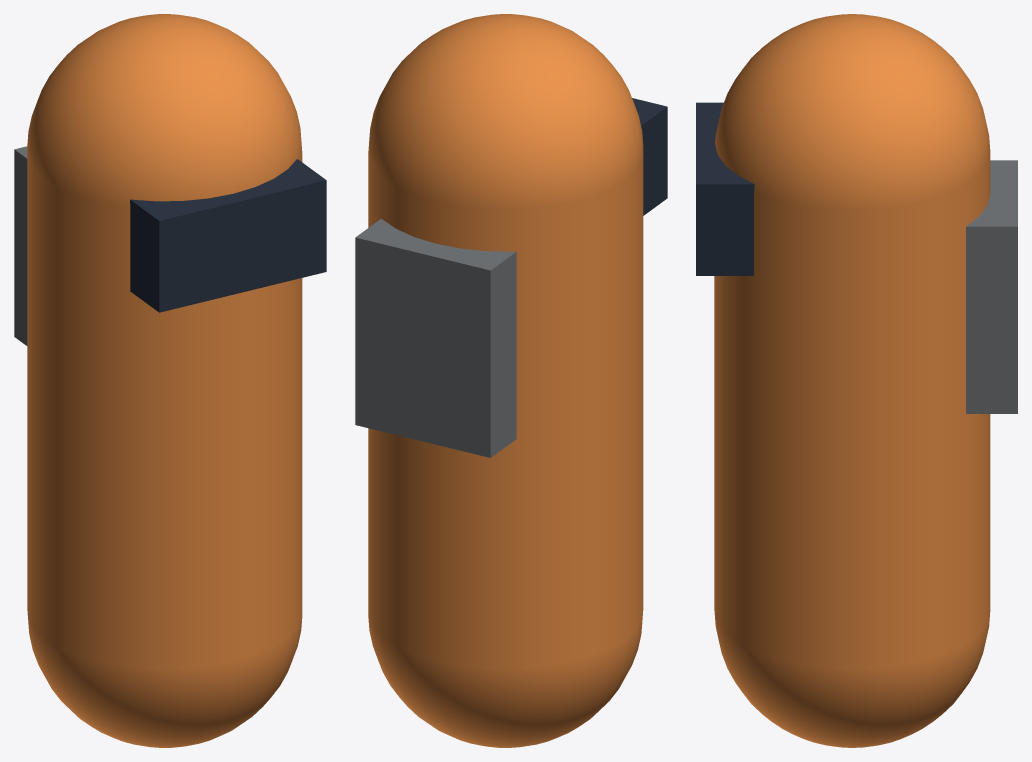
The model's file is character.gltf.
3 views of the same model, side by side, from view 1: azimuth 30°, elevation 25°; view 2: azimuth 150°, elevation 25°; view 3: azimuth 270°, elevation 25° (orthographic).
Bounding box in the file's own units: 0.6 × 1.7 × 0.7.
